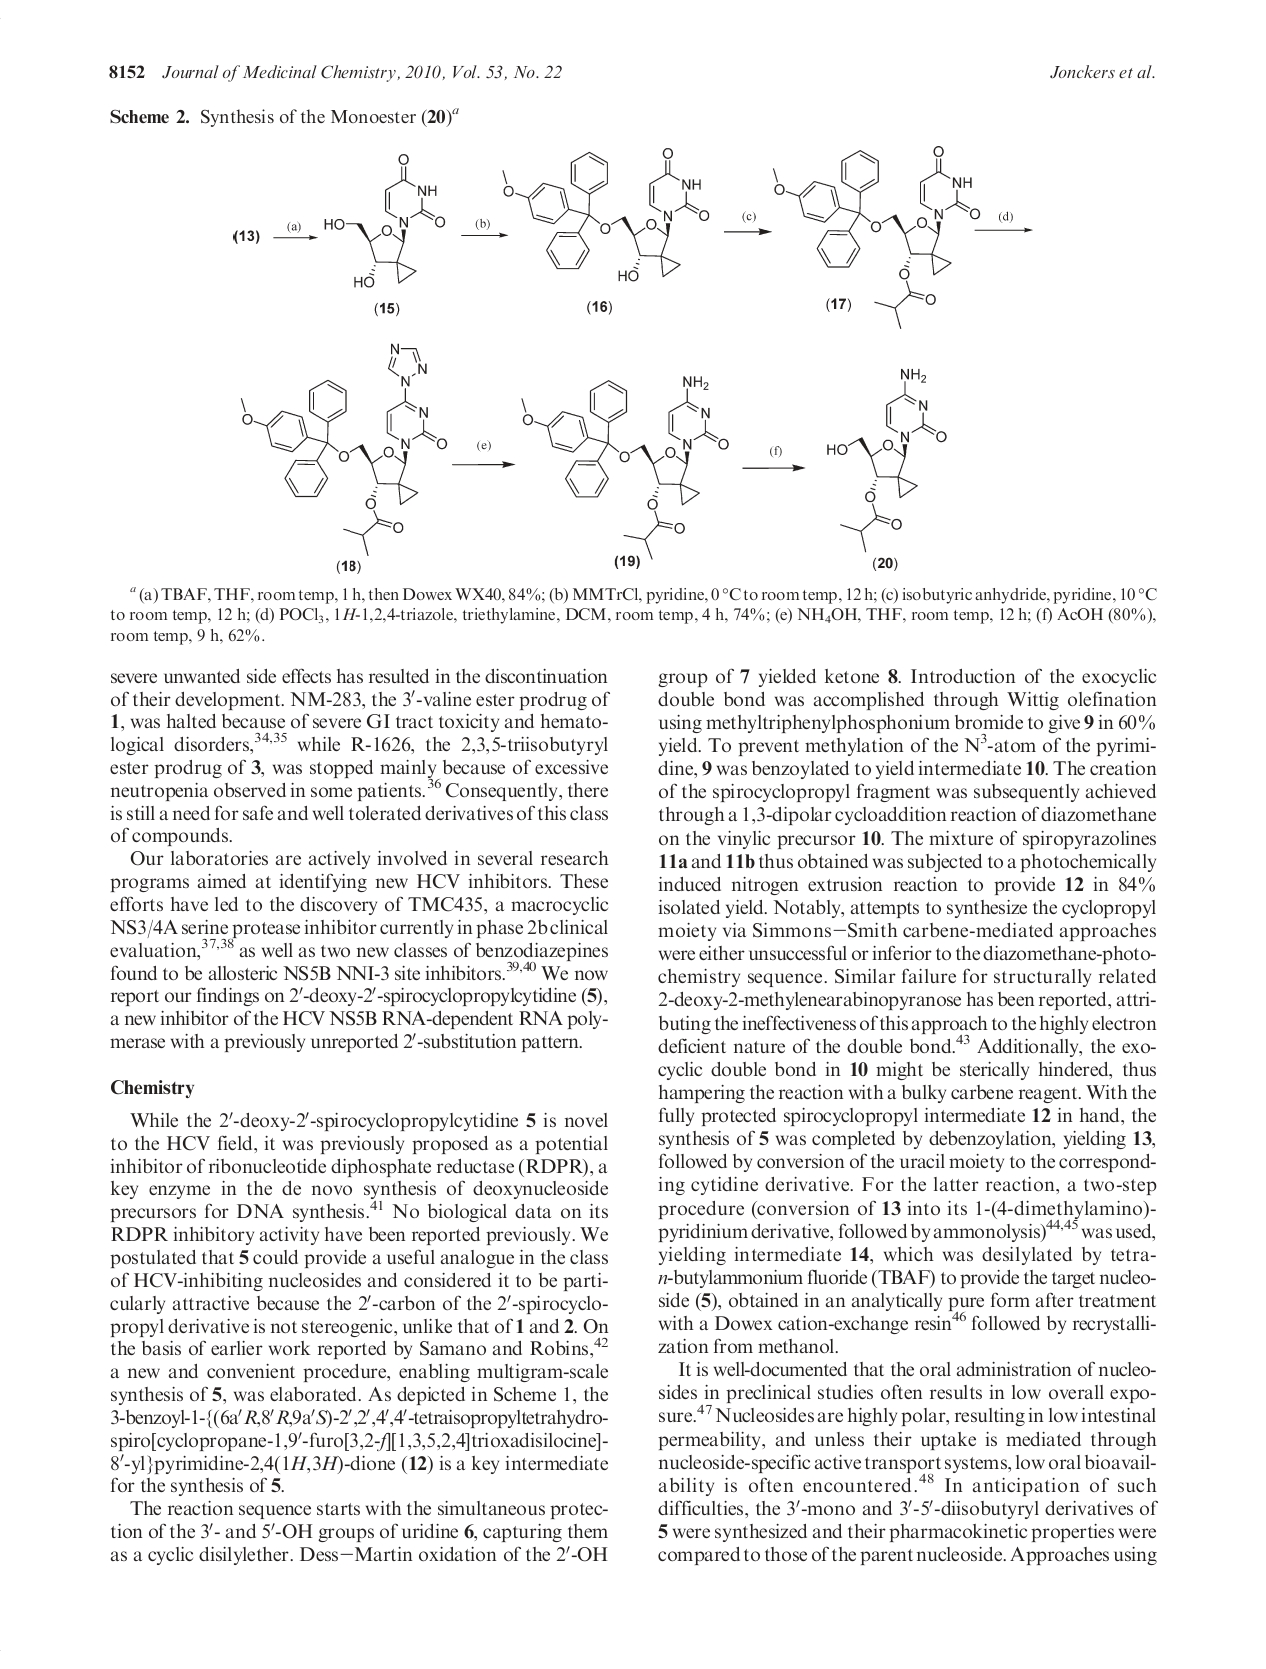exist_molecular: (238, 340, 448, 559), (520, 371, 730, 560), (769, 144, 981, 330), (501, 146, 711, 282), (826, 368, 949, 555), (323, 154, 447, 289)
